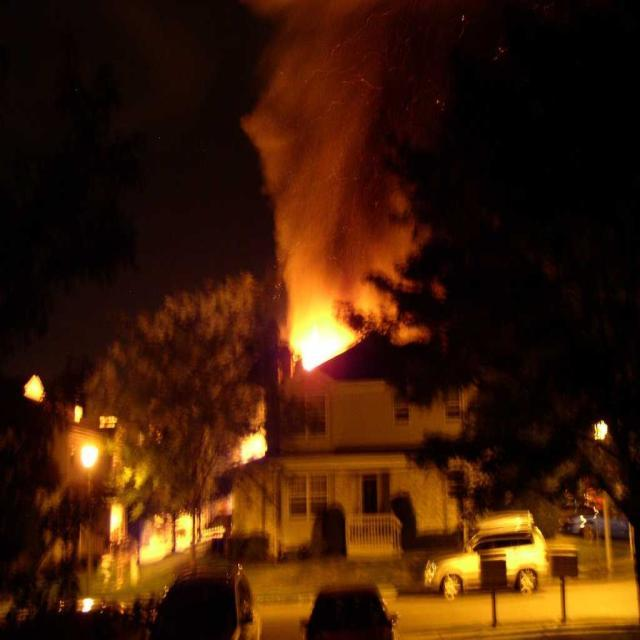Fire: (297, 294, 348, 368)
Smoke: (282, 8, 376, 266)
